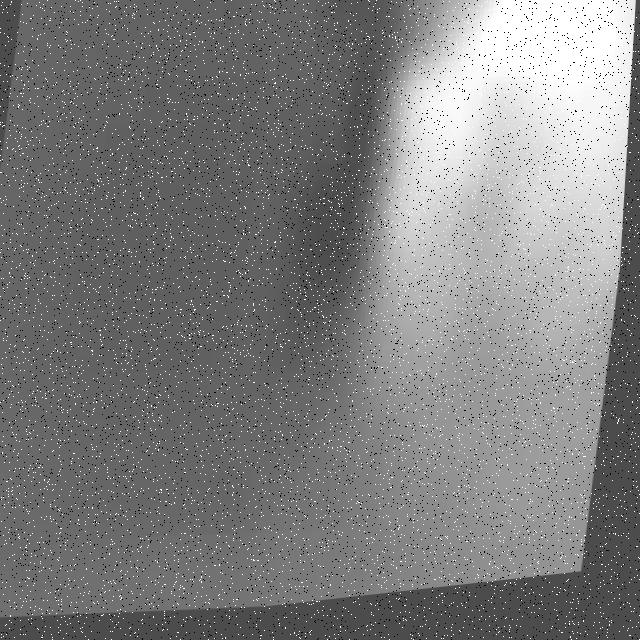person: (327, 1, 640, 495)
